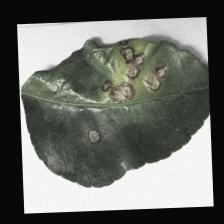canker: (72, 37, 172, 152)
